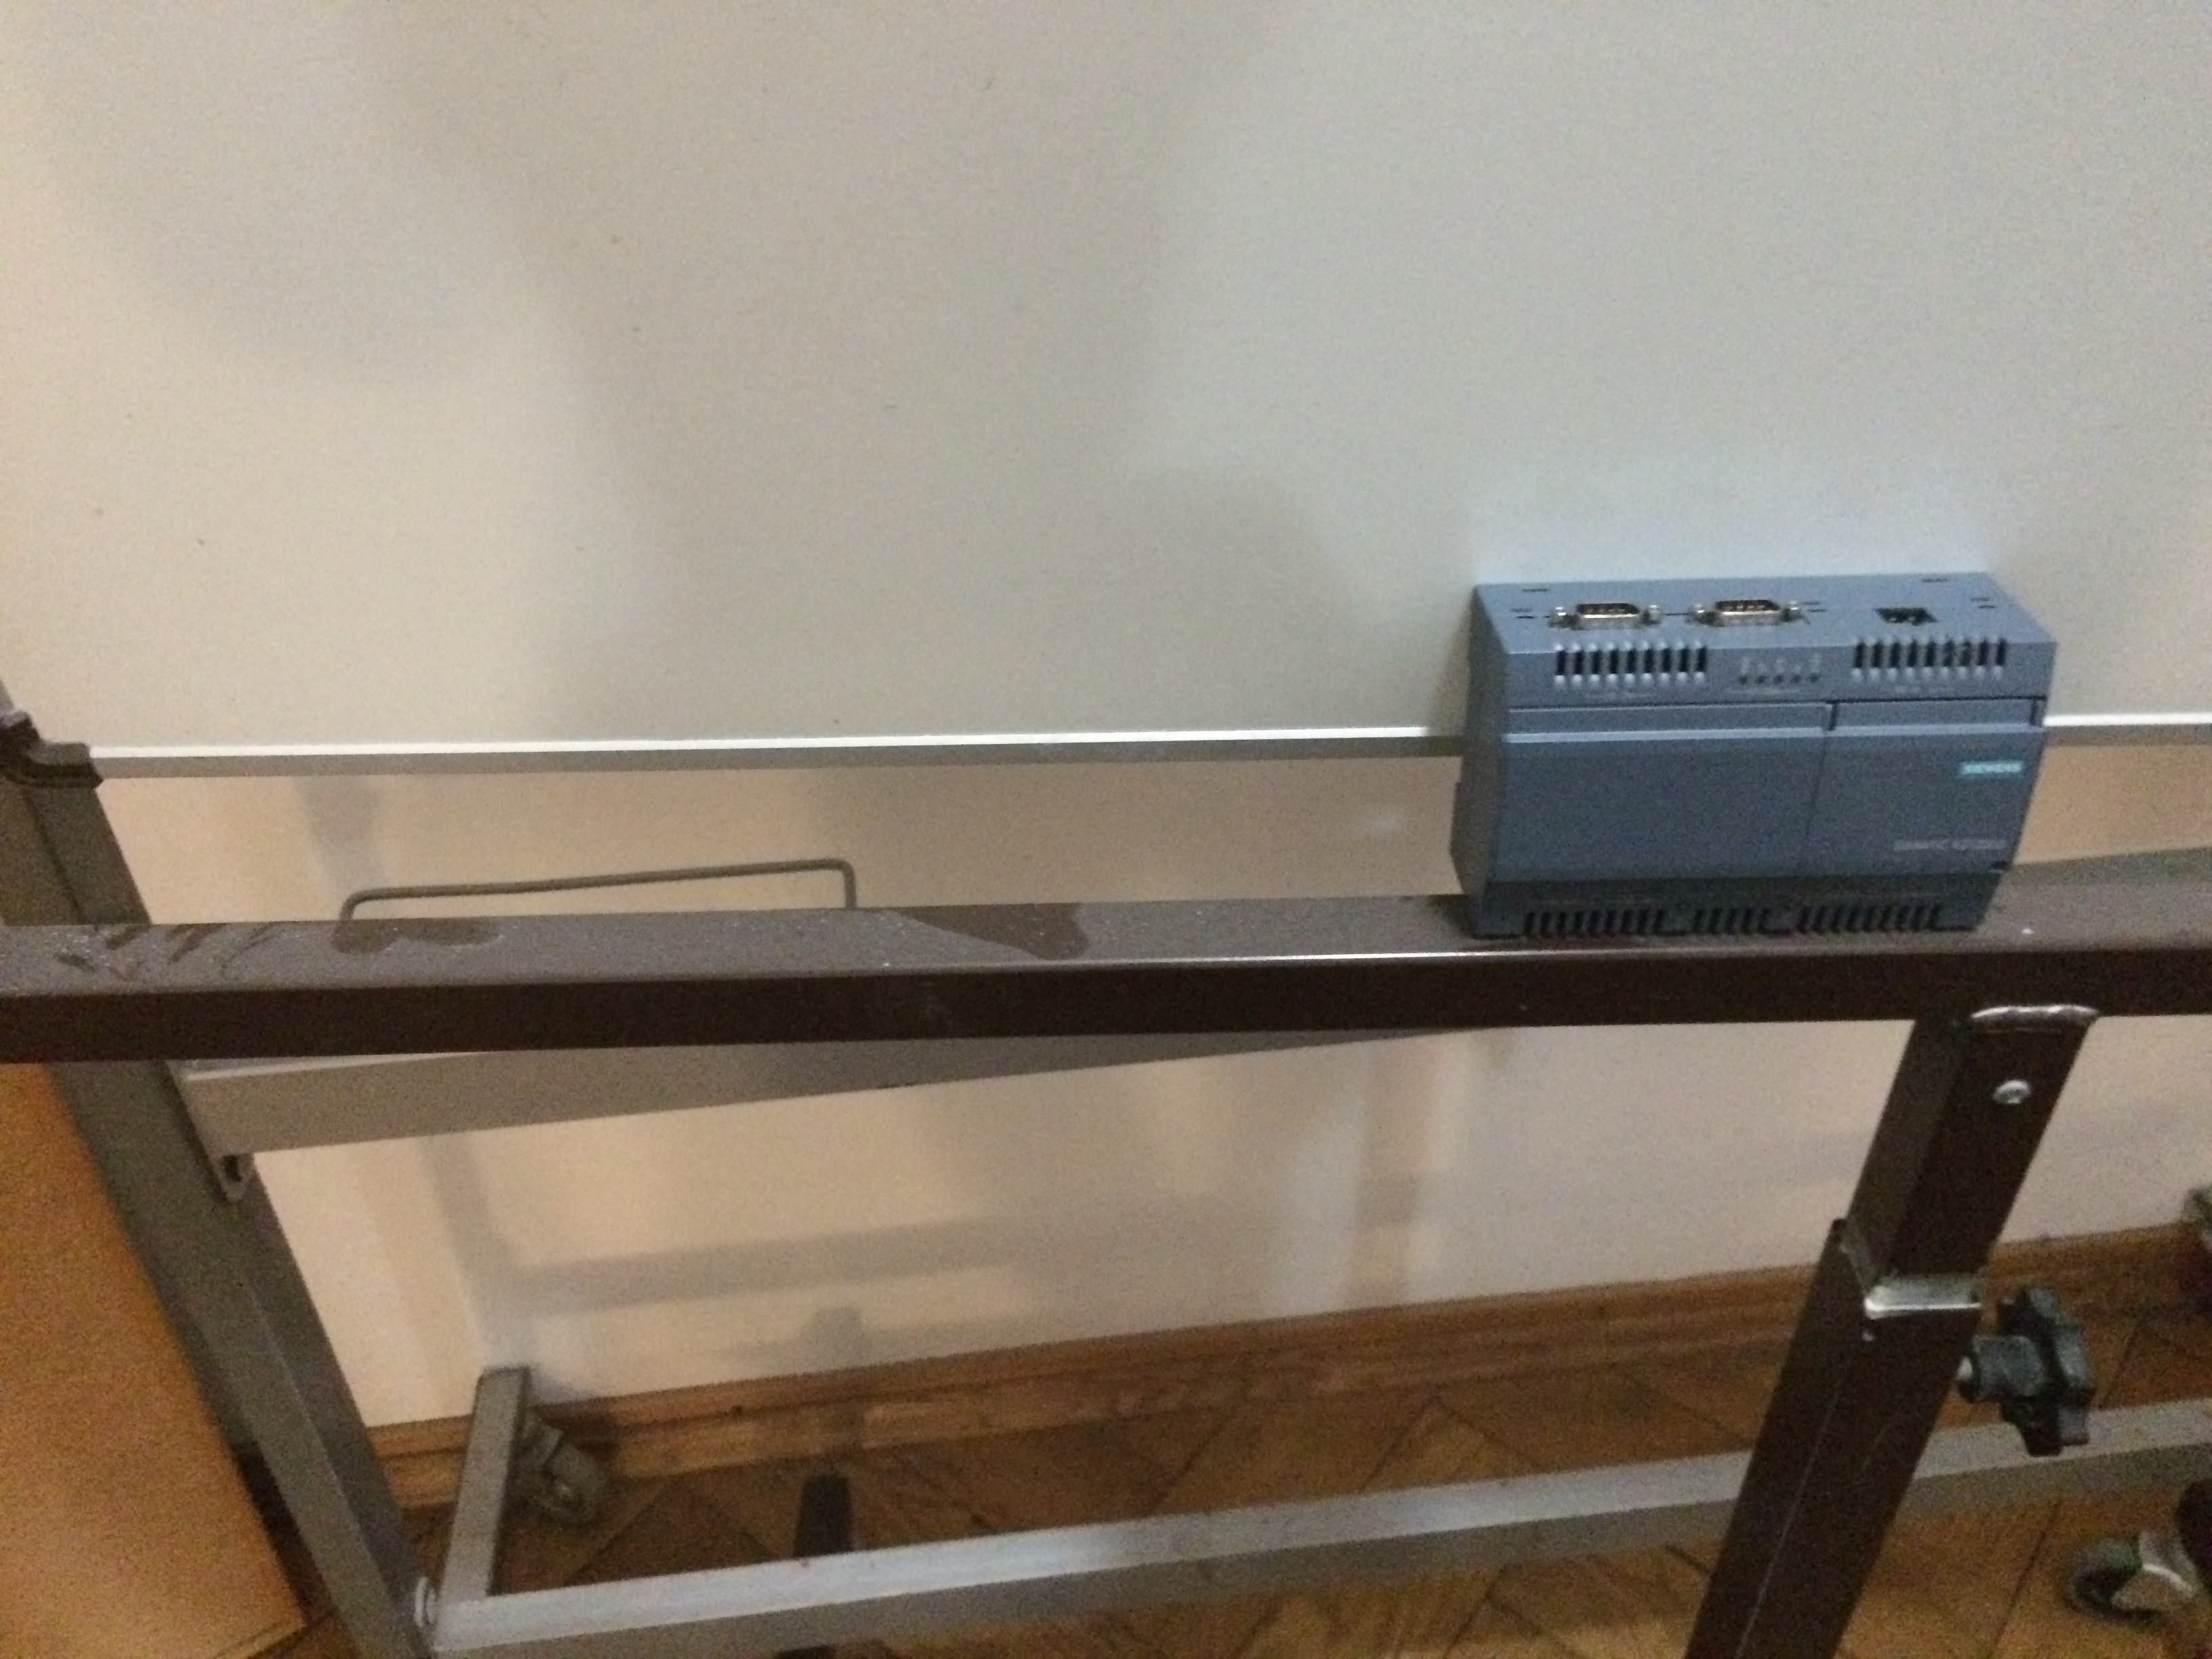iot2000: (1449, 568, 2059, 945)
